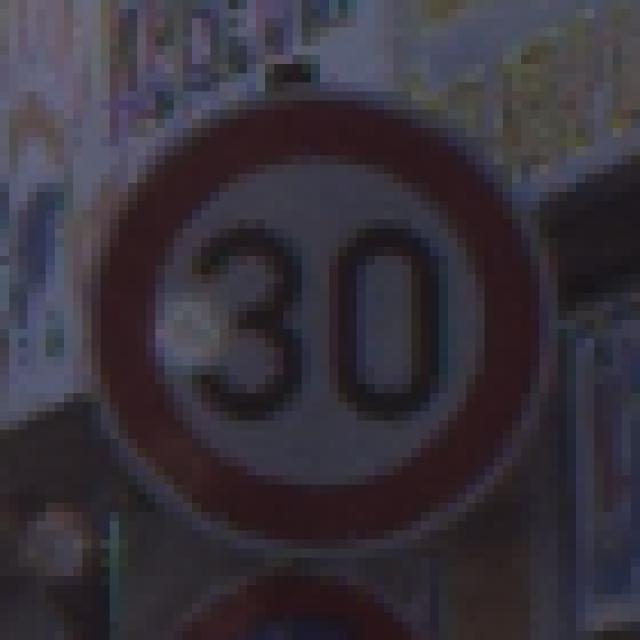Speed Limit -30-: (50, 50, 581, 581)
